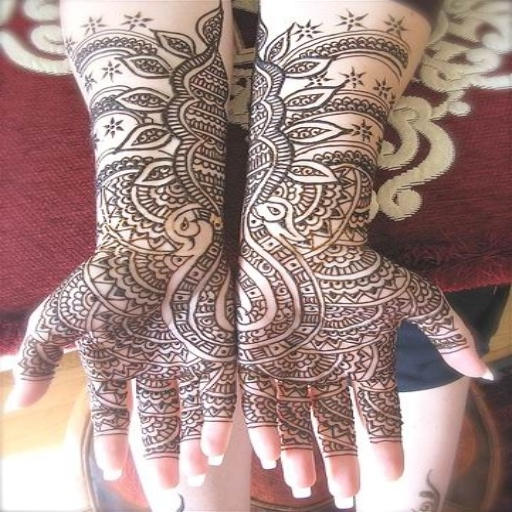hand: (235, 244, 496, 510), (1, 250, 238, 497)
